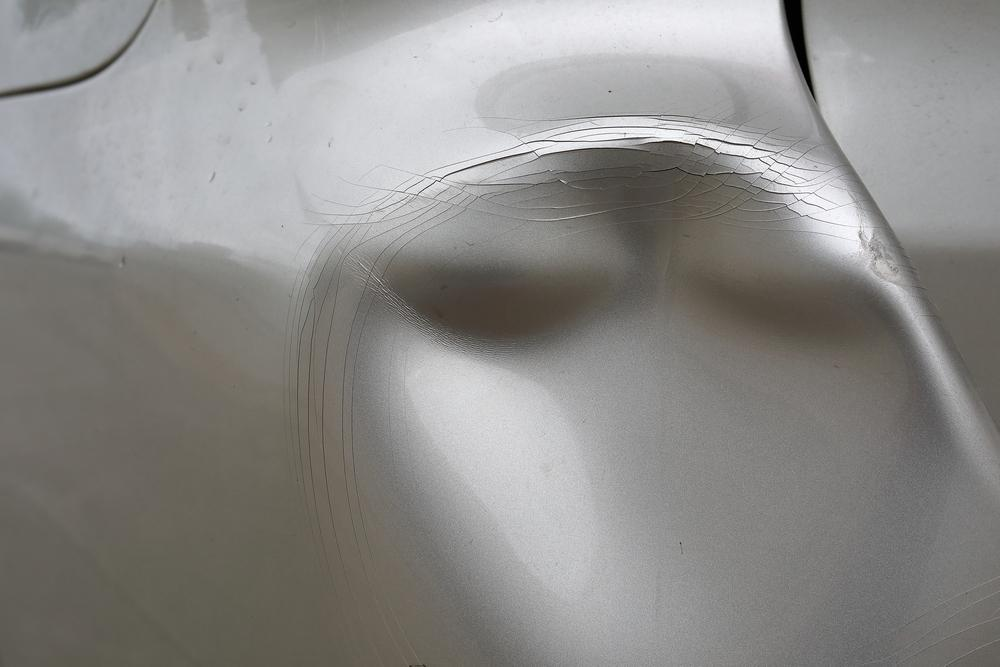dent: (356, 139, 948, 667)
